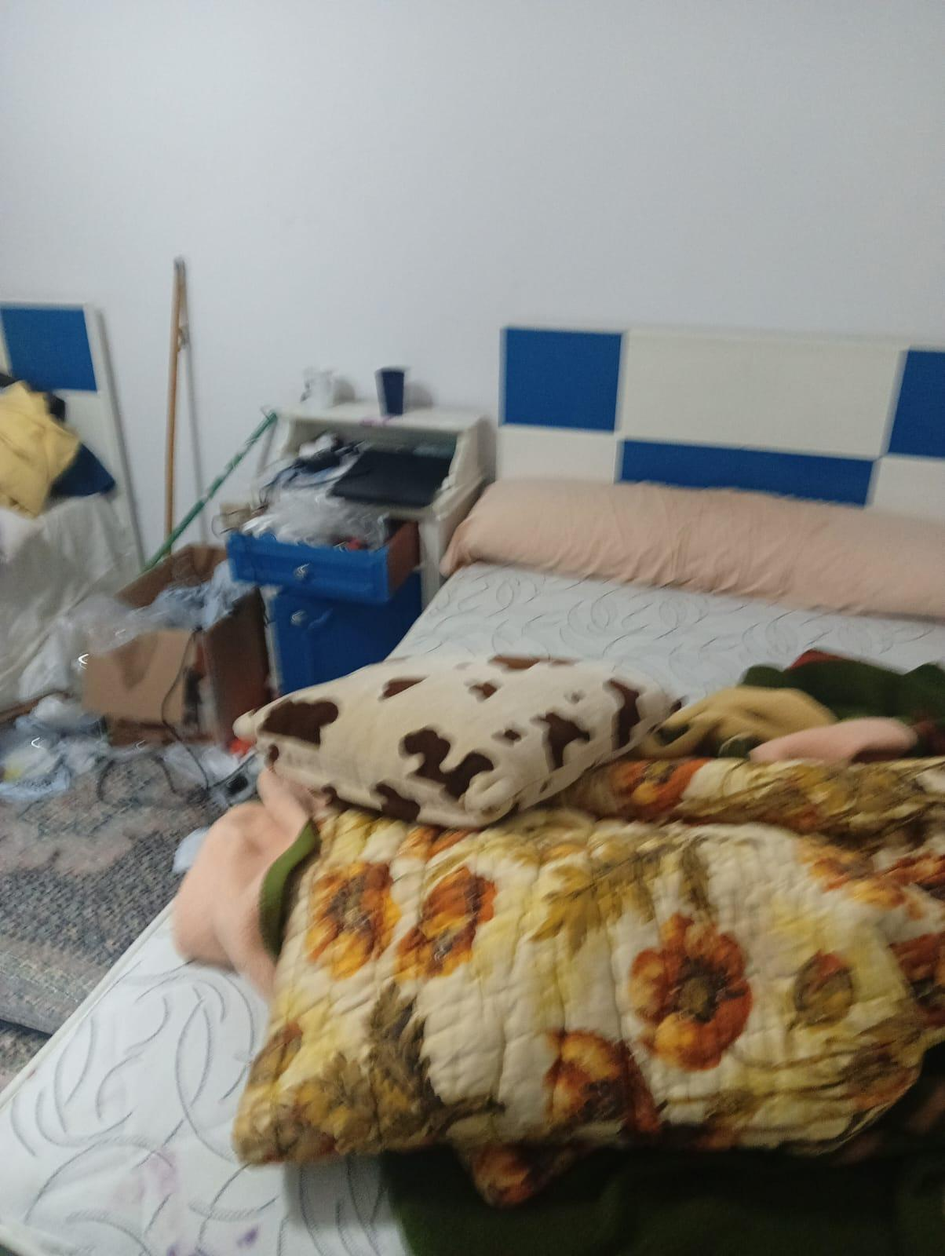cup: (299, 369, 337, 414), (375, 367, 406, 417)
